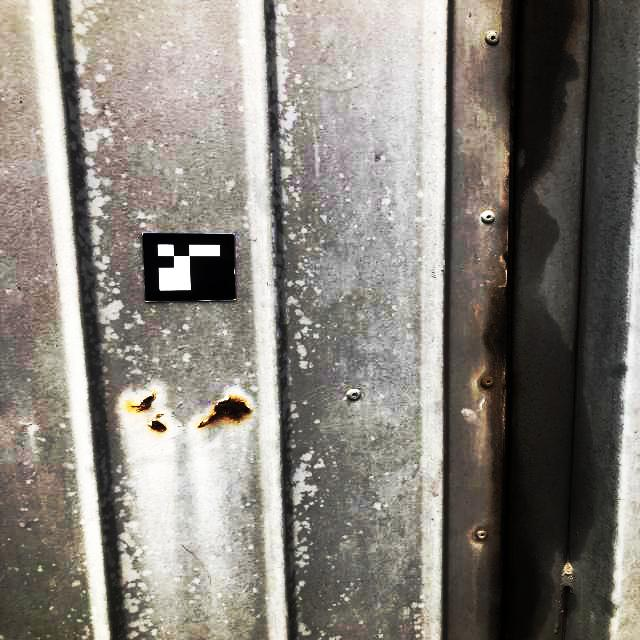Corrosion: (195, 395, 253, 429), (131, 388, 158, 413), (146, 418, 168, 433), (155, 413, 164, 418)
